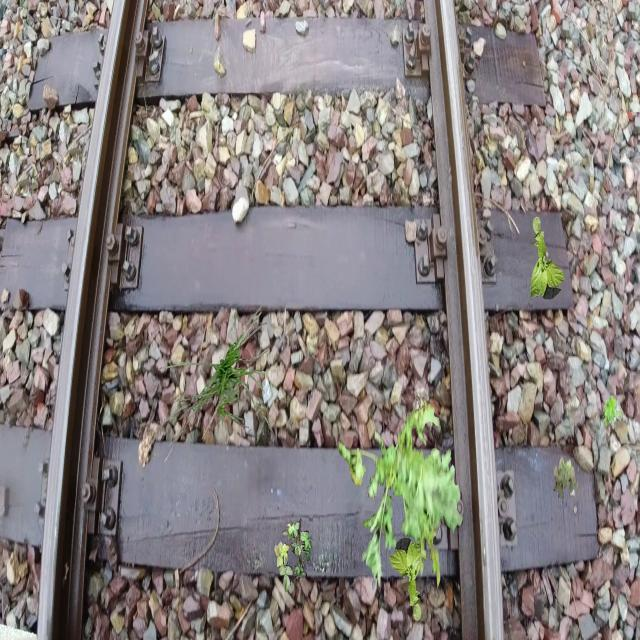Plant: (338, 395, 463, 591), (157, 300, 276, 463), (530, 216, 566, 300), (389, 538, 424, 622), (274, 519, 312, 592), (553, 456, 579, 498), (602, 396, 622, 429)
